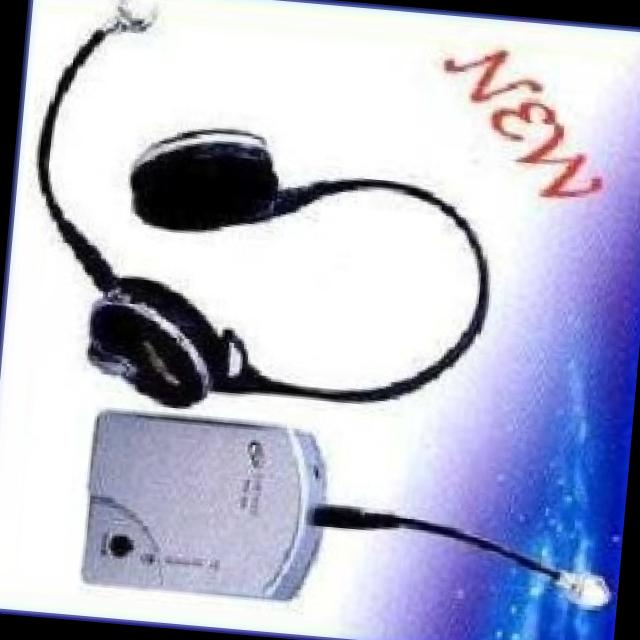kulaklik: (0, 105, 511, 437)
